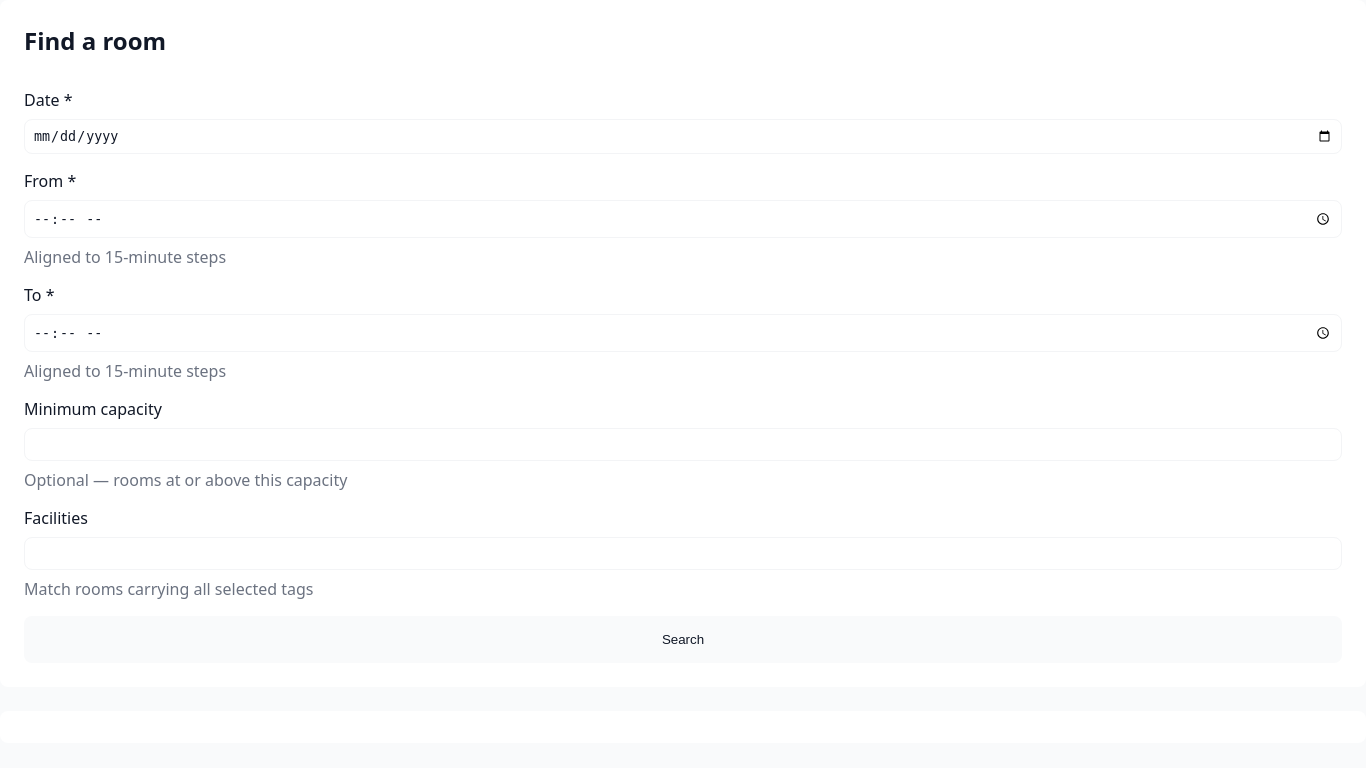
Test: RoomFinder › shows the empty notice when the search returns no rooms
The image size is (1366, 768).
Type "2026-07-27" into the date field with id "room-search-date" at x=683, y=137, box [24,119,1342,154]
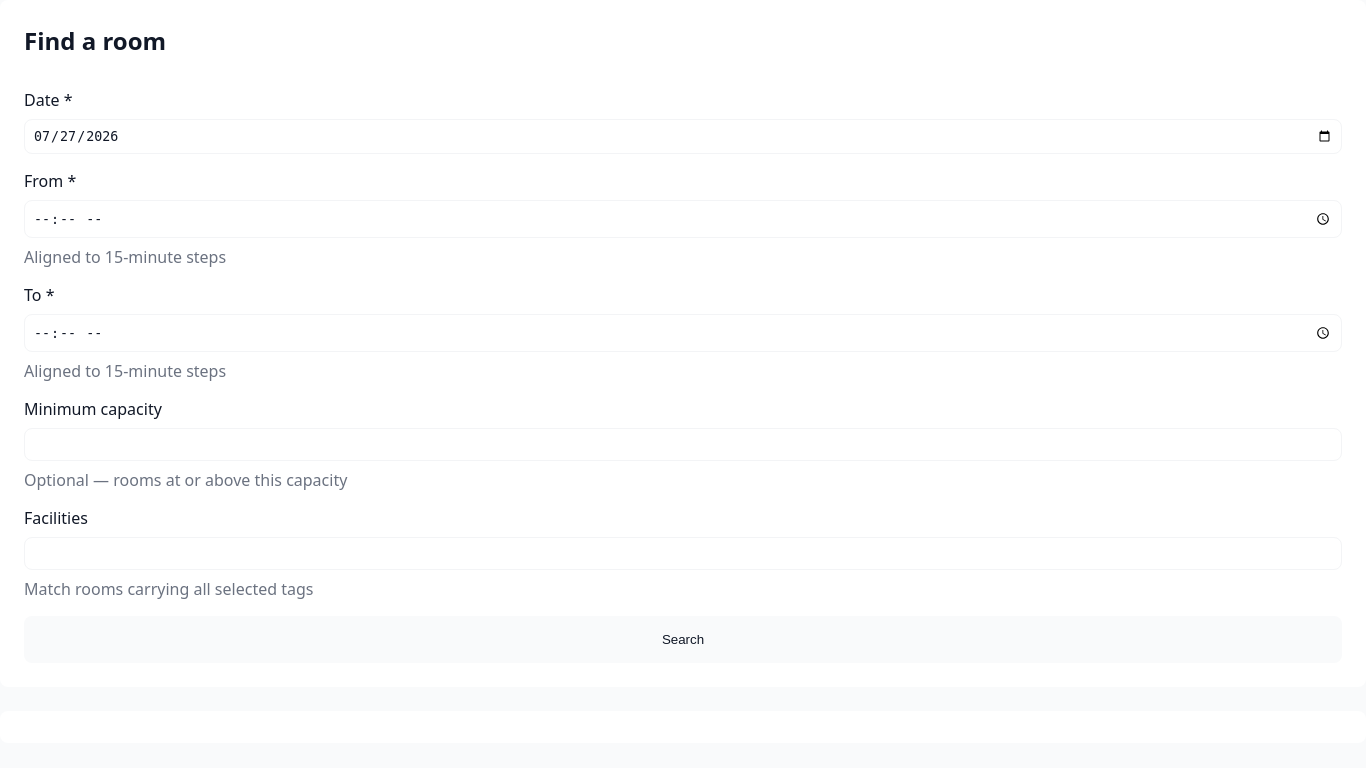
Type "10:00" into the time field with id "room-search-start" at x=683, y=219, box [24,200,1342,238]
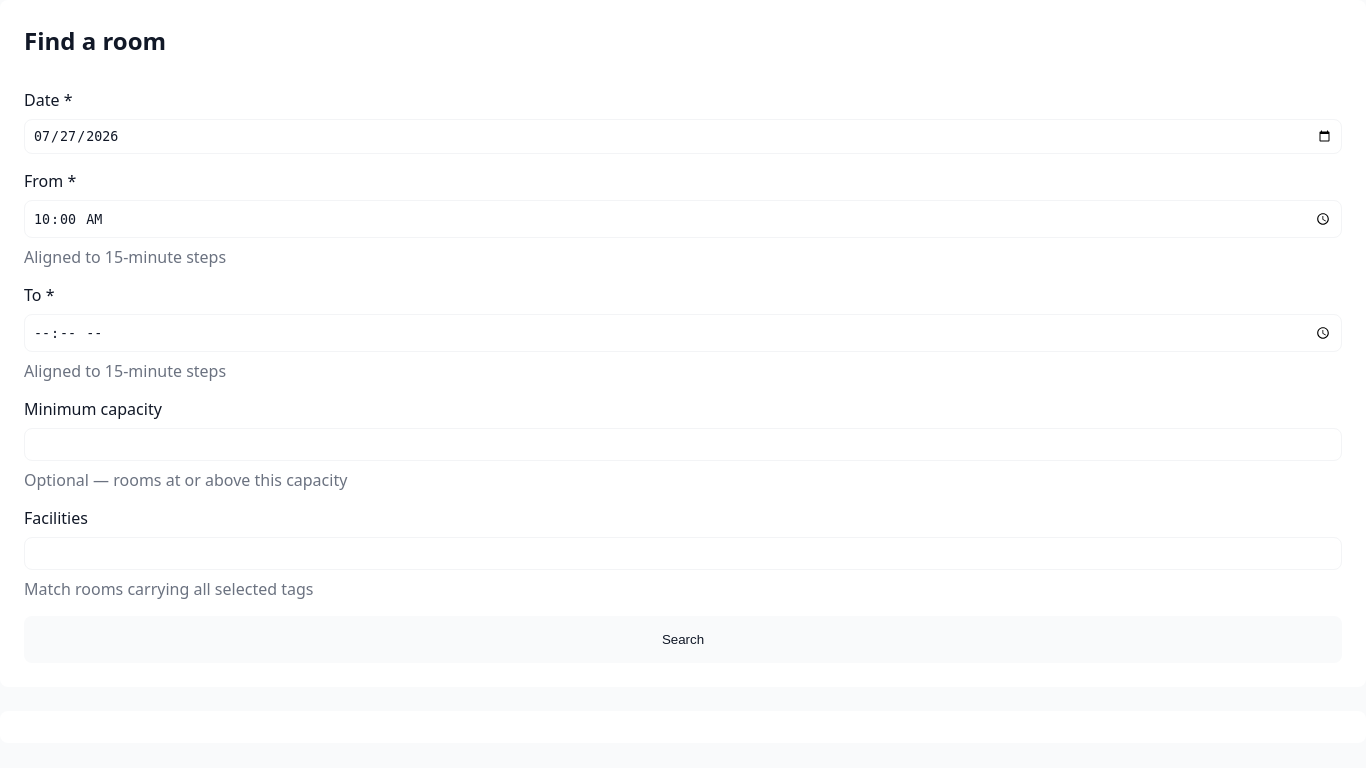
Type "11:00" into the time field with id "room-search-end" at x=683, y=333, box [24,314,1342,352]
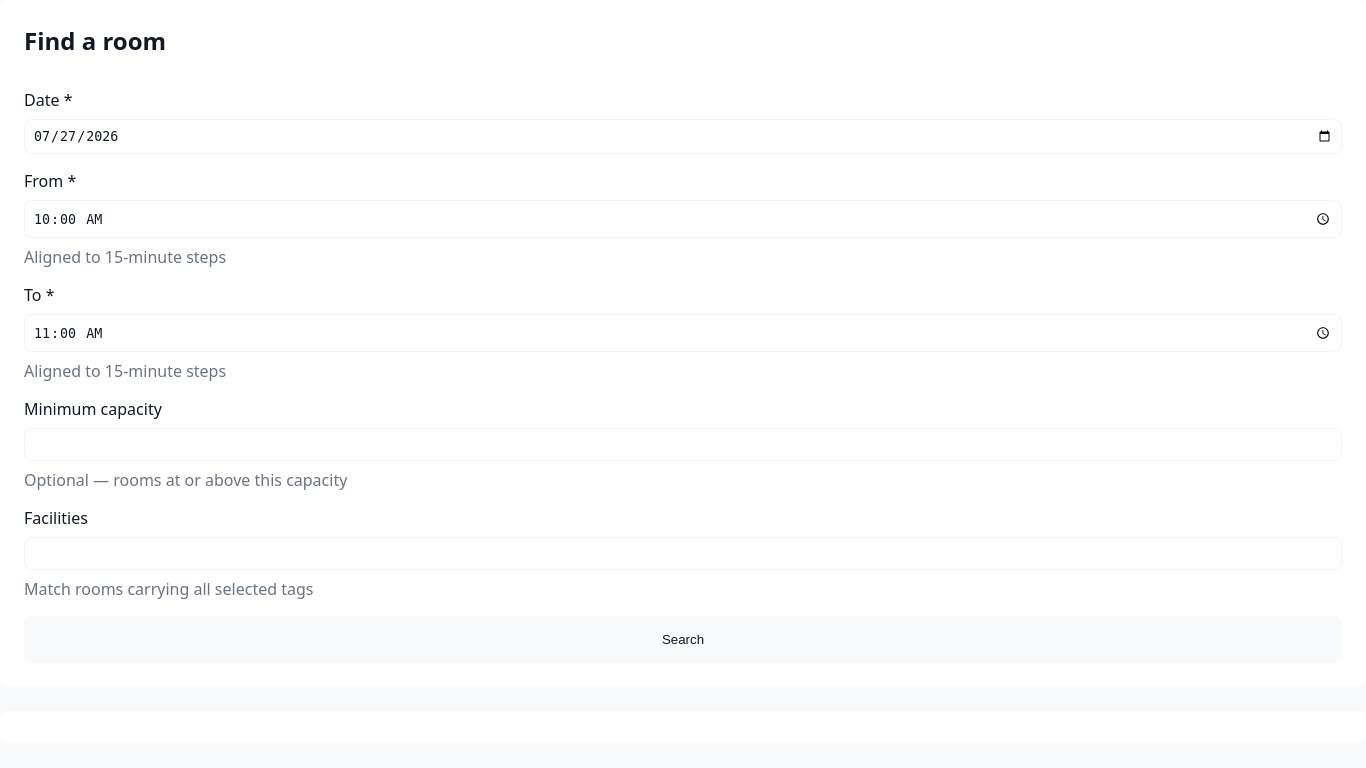
Submit the form
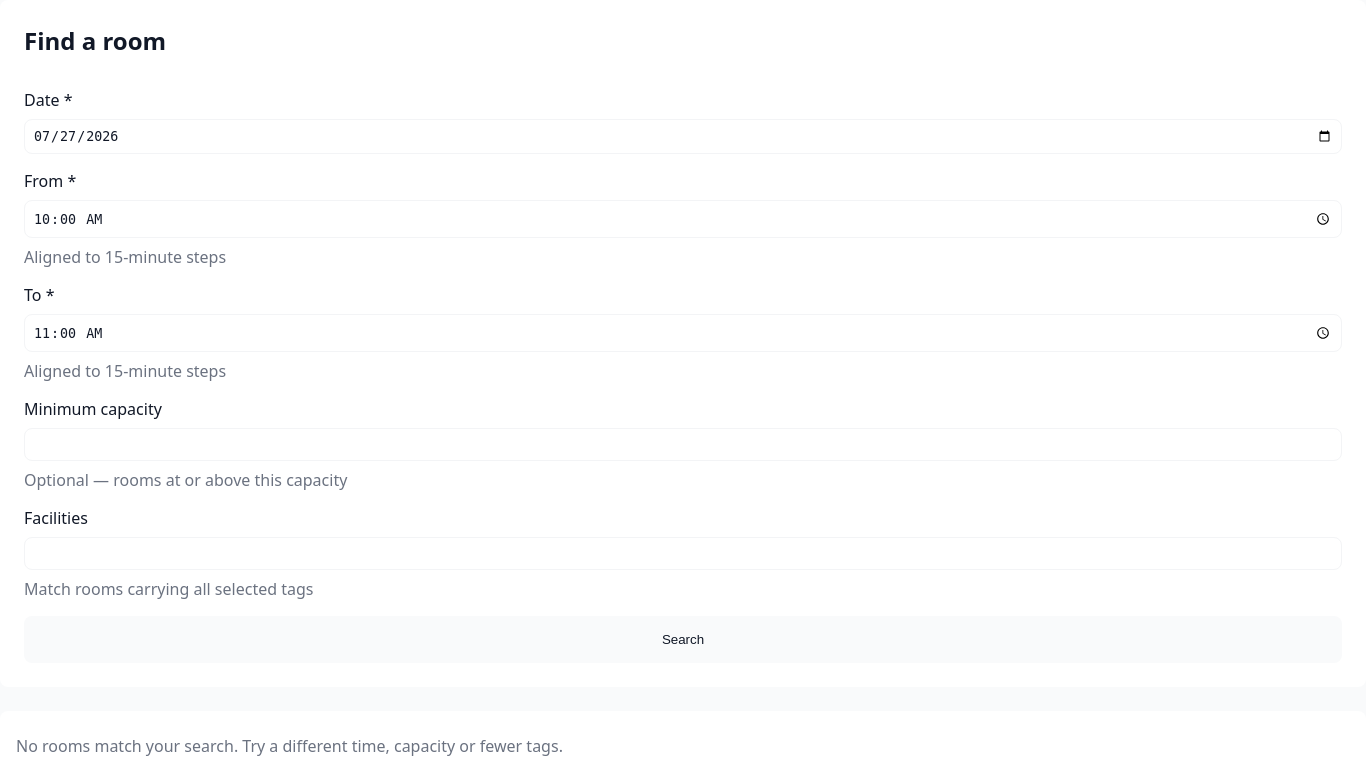
Expected: the text "No rooms match your search." is shown, [16,735,563,757]
